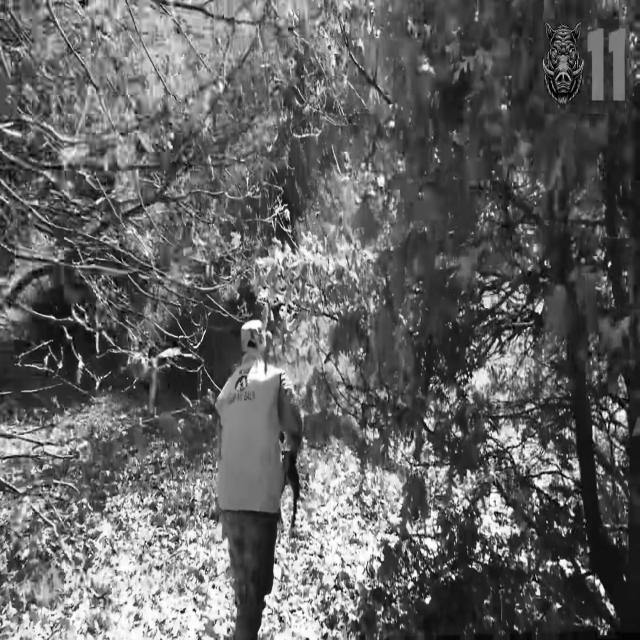monkey: (215, 319, 301, 638)
